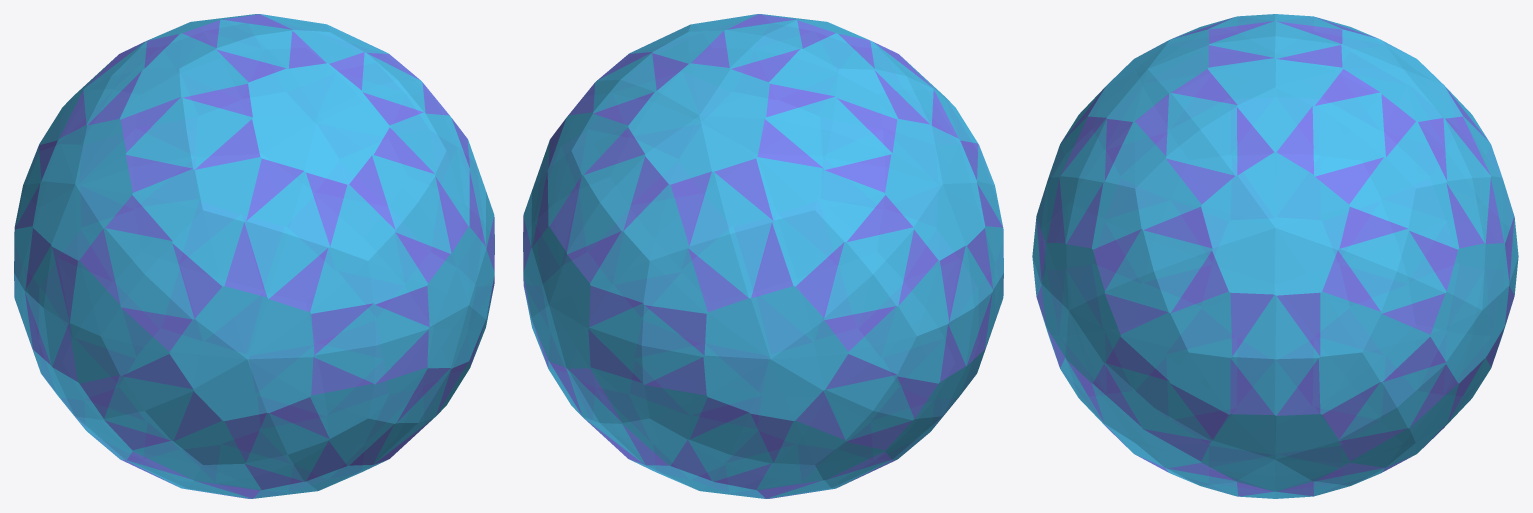
The model's file is BiscribedPropelloDisdyakisTriacontahedron.obj.
3 renders of one model, left to right at view 1: azimuth 30°, elevation 25°; view 2: azimuth 150°, elevation 25°; view 3: azimuth 270°, elevation 25°, orthographic.
Bounding box in the file's own units: 2 × 2 × 2.
